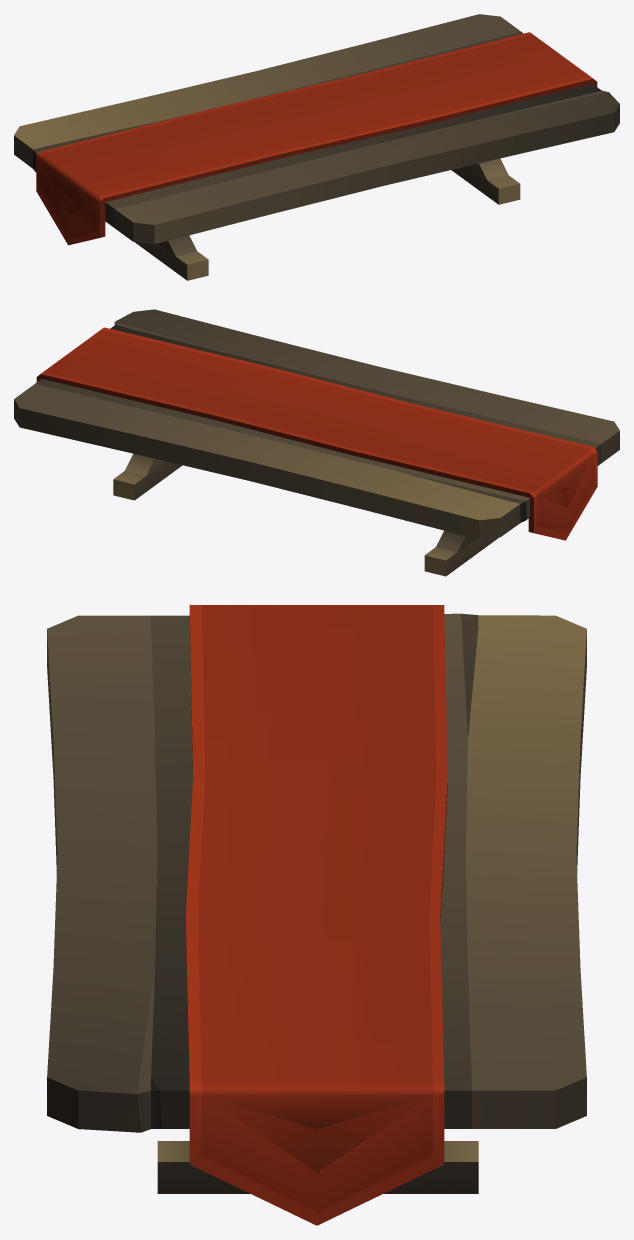
File: table_large_cloth.fbx
3 renders of one model, top to bottom at view 1: azimuth 30°, elevation 25°; view 2: azimuth 150°, elevation 25°; view 3: azimuth 270°, elevation 25°, orthographic. The views are drawn at different scales.
Parts seen in each view (by area): view 1: table_large_cloth; view 2: table_large_cloth; view 3: table_large_cloth.
Boxes of the visible parts, x1,y1,x2,y2 form: table_large_cloth: [14, 14, 619, 280]; table_large_cloth: [14, 309, 619, 576]; table_large_cloth: [47, 605, 586, 1225].
Bounding box in the file's own units: 358 × 65.47 × 168.
